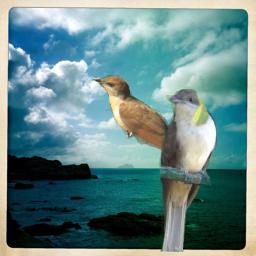Cuckoo: (93, 75, 196, 176), (157, 89, 217, 252)
